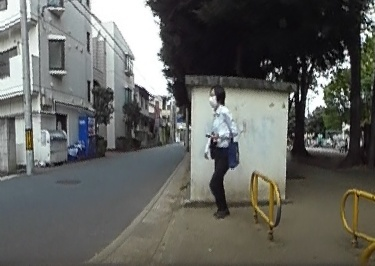person: (202, 82, 243, 218)
